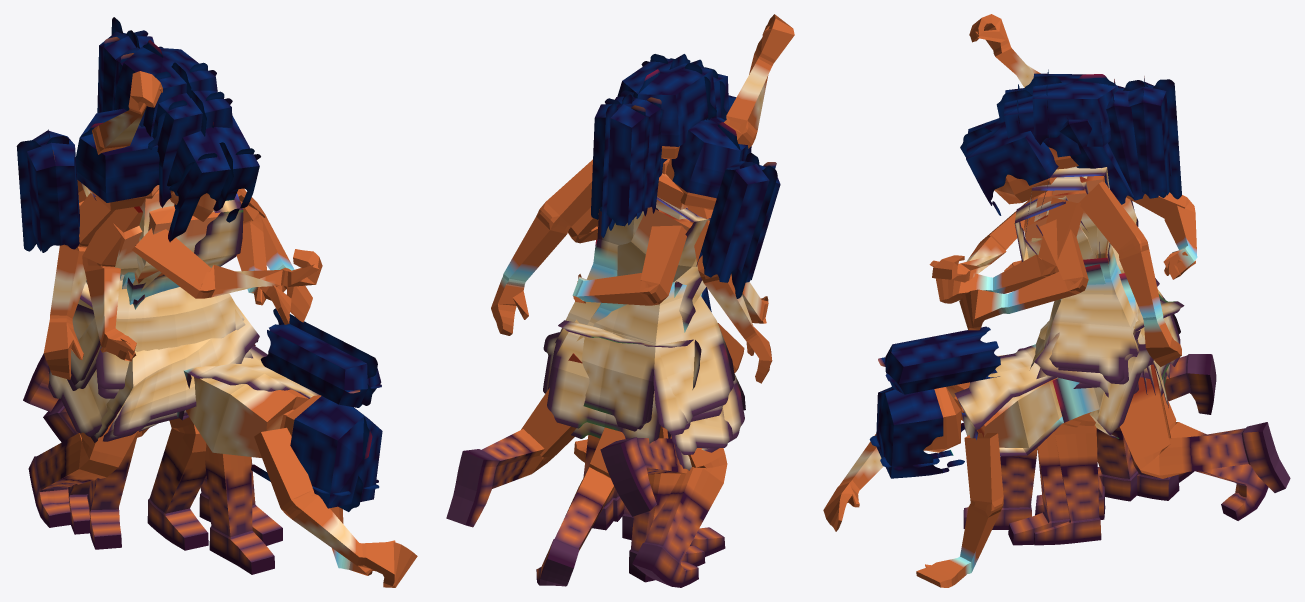
Rendered from Statues.fbx.
3 renders of one model, left to right at view 1: azimuth 30°, elevation 25°; view 2: azimuth 150°, elevation 25°; view 3: azimuth 270°, elevation 25°, orthographic. The views are drawn at different scales.
Visible parts, largest first — view 1: AttackStatue, DodgeStatue, RunStatue, SpecialStatue, InteractStatue; view 2: SpecialStatue, AttackStatue, InteractStatue, DodgeStatue, RunStatue; view 3: DodgeStatue, SpecialStatue, RunStatue, InteractStatue, AttackStatue.
Part boxes in pixels (x1,y1,x2,y2): AttackStatue: (16,108,322,574); DodgeStatue: (43,282,417,587); RunStatue: (23,115,312,550); SpecialStatue: (70,17,244,549); InteractStatue: (43,30,291,545); SpecialStatue: (491,14,794,556); AttackStatue: (571,117,780,587); InteractStatue: (548,58,772,582); DodgeStatue: (446,287,744,586); RunStatue: (547,95,768,540); DodgeStatue: (823,278,1290,587); SpecialStatue: (969,14,1181,545); RunStatue: (959,115,1216,519); InteractStatue: (935,79,1180,545); AttackStatue: (929,192,1197,529).
Size of the model in its own units: 120 by 202 by 180.
